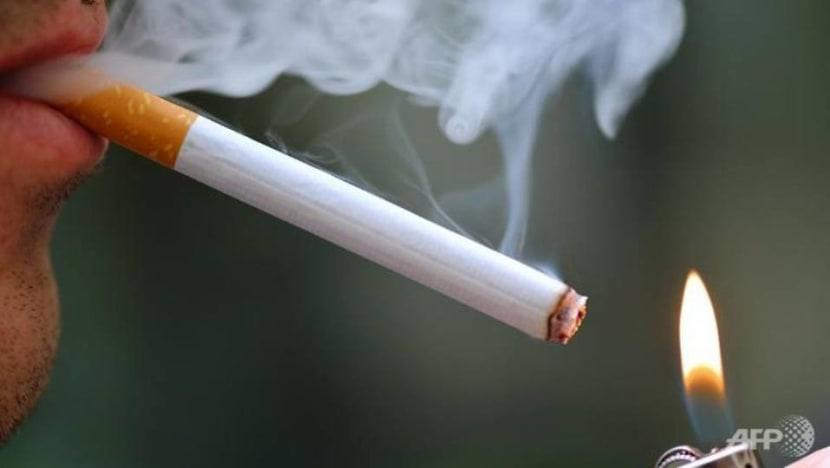smoke: (11, 49, 589, 346)
